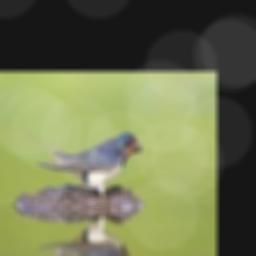Swallow: (22, 132, 142, 199)
